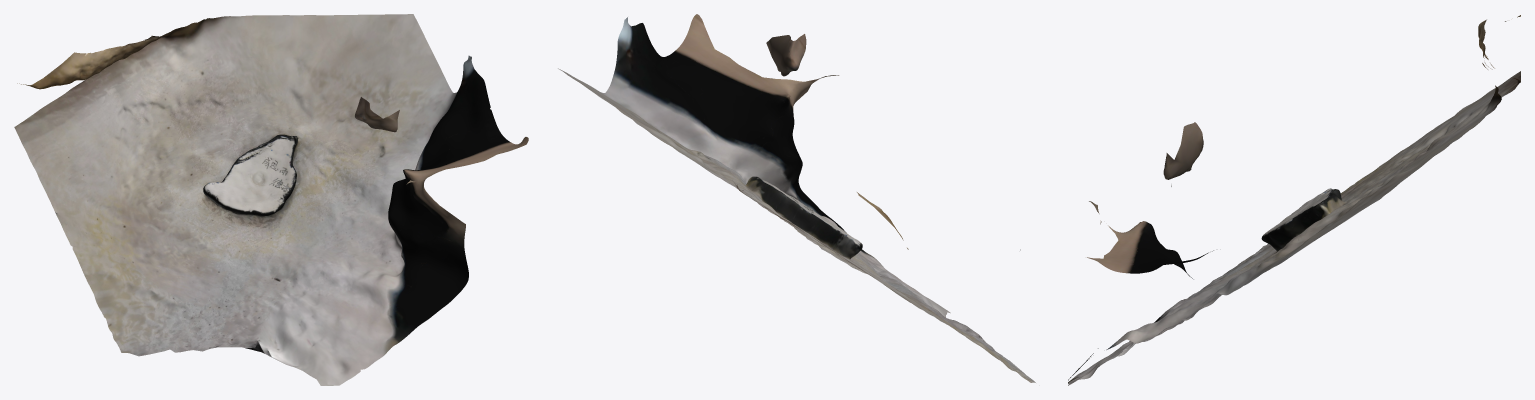
The picture shows the model from 3 angles, left to right: view 1: azimuth 30°, elevation 25°; view 2: azimuth 150°, elevation 25°; view 3: azimuth 270°, elevation 25°; orthographic projection. The views are drawn at different scales.
Bounding box in the file's own units: 2.13 × 1.39 × 1.87.
1 material, 1 textured.
